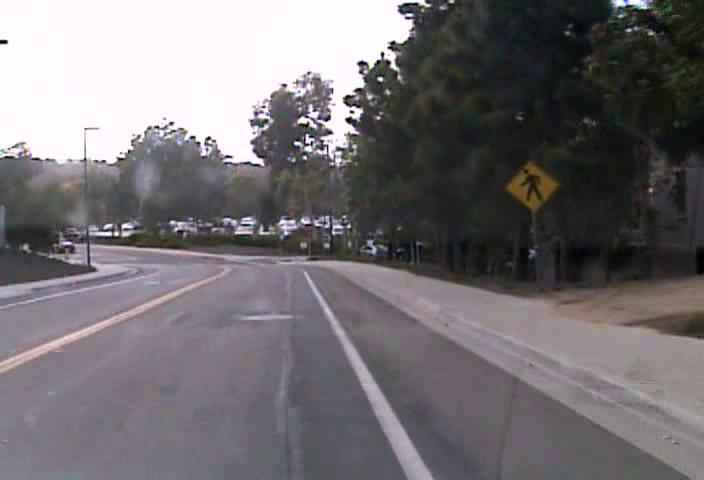pedestrianCrossing: (503, 158, 560, 212)
